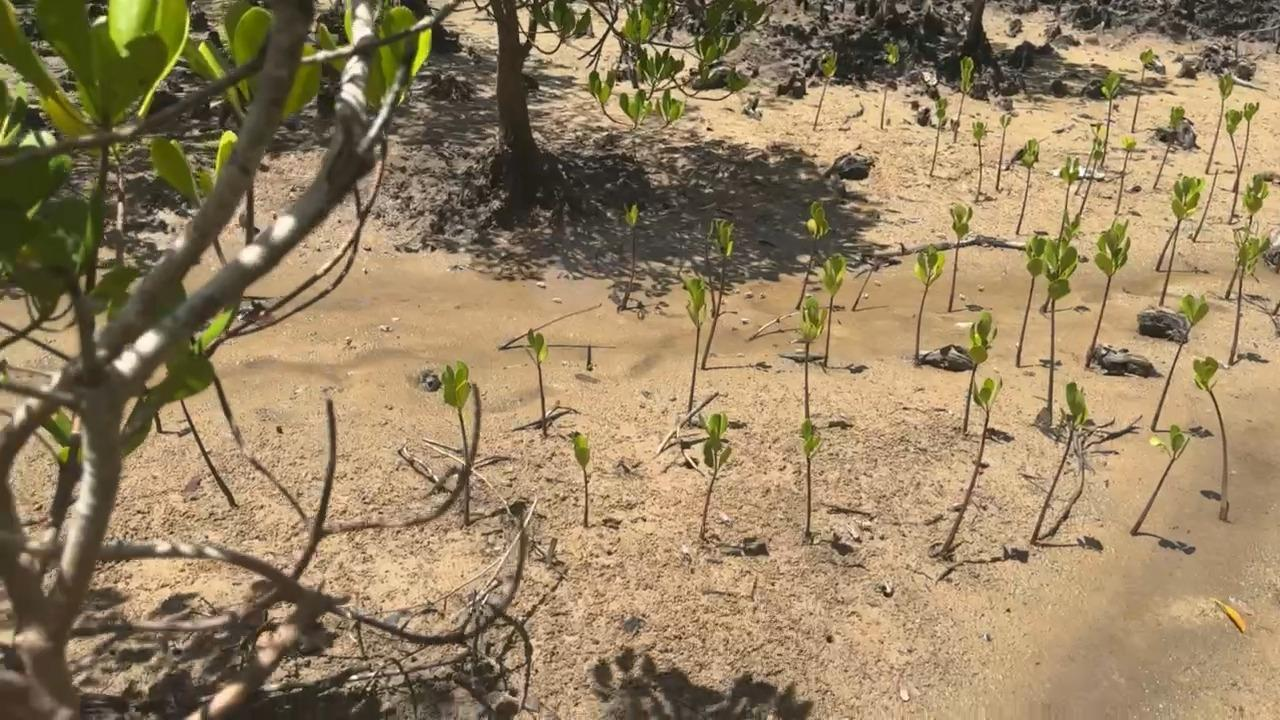Tree: (939, 373, 1002, 554), (1031, 380, 1091, 543), (1150, 293, 1208, 430), (1085, 215, 1131, 367), (1129, 425, 1190, 535), (1044, 238, 1080, 417), (1193, 357, 1229, 520), (1223, 175, 1271, 297), (1160, 174, 1204, 307), (1229, 235, 1272, 363), (442, 359, 474, 527), (701, 219, 734, 369), (1153, 177, 1203, 271), (963, 311, 998, 432), (793, 293, 826, 420), (1043, 212, 1084, 312), (700, 410, 731, 539), (796, 201, 830, 307), (1016, 232, 1043, 365), (681, 269, 706, 411), (913, 244, 943, 360), (525, 327, 550, 435), (1206, 73, 1233, 173), (948, 205, 973, 311), (822, 253, 845, 367), (1153, 106, 1184, 188), (1233, 103, 1261, 192), (801, 418, 822, 536), (1100, 70, 1123, 167), (1017, 139, 1040, 233), (1058, 155, 1080, 248), (1224, 109, 1242, 219), (814, 51, 839, 128), (570, 431, 590, 527), (1081, 136, 1105, 215), (1076, 125, 1101, 196), (621, 204, 638, 308), (1132, 49, 1153, 131), (953, 56, 973, 140), (881, 44, 900, 127), (972, 121, 989, 200), (931, 99, 947, 175), (852, 268, 876, 310), (996, 114, 1009, 188)
